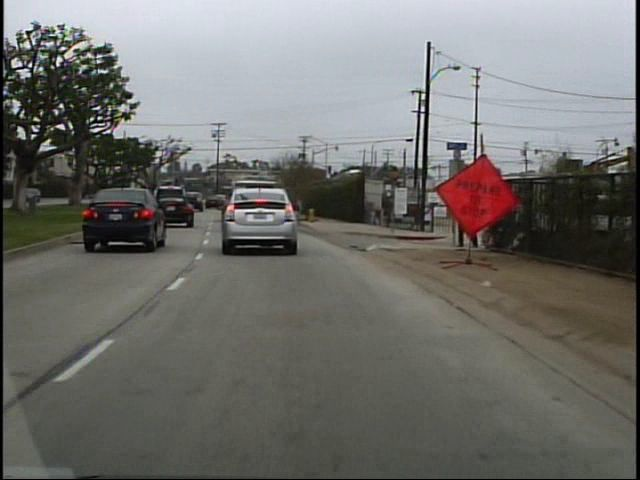person: (449, 183, 485, 253)
